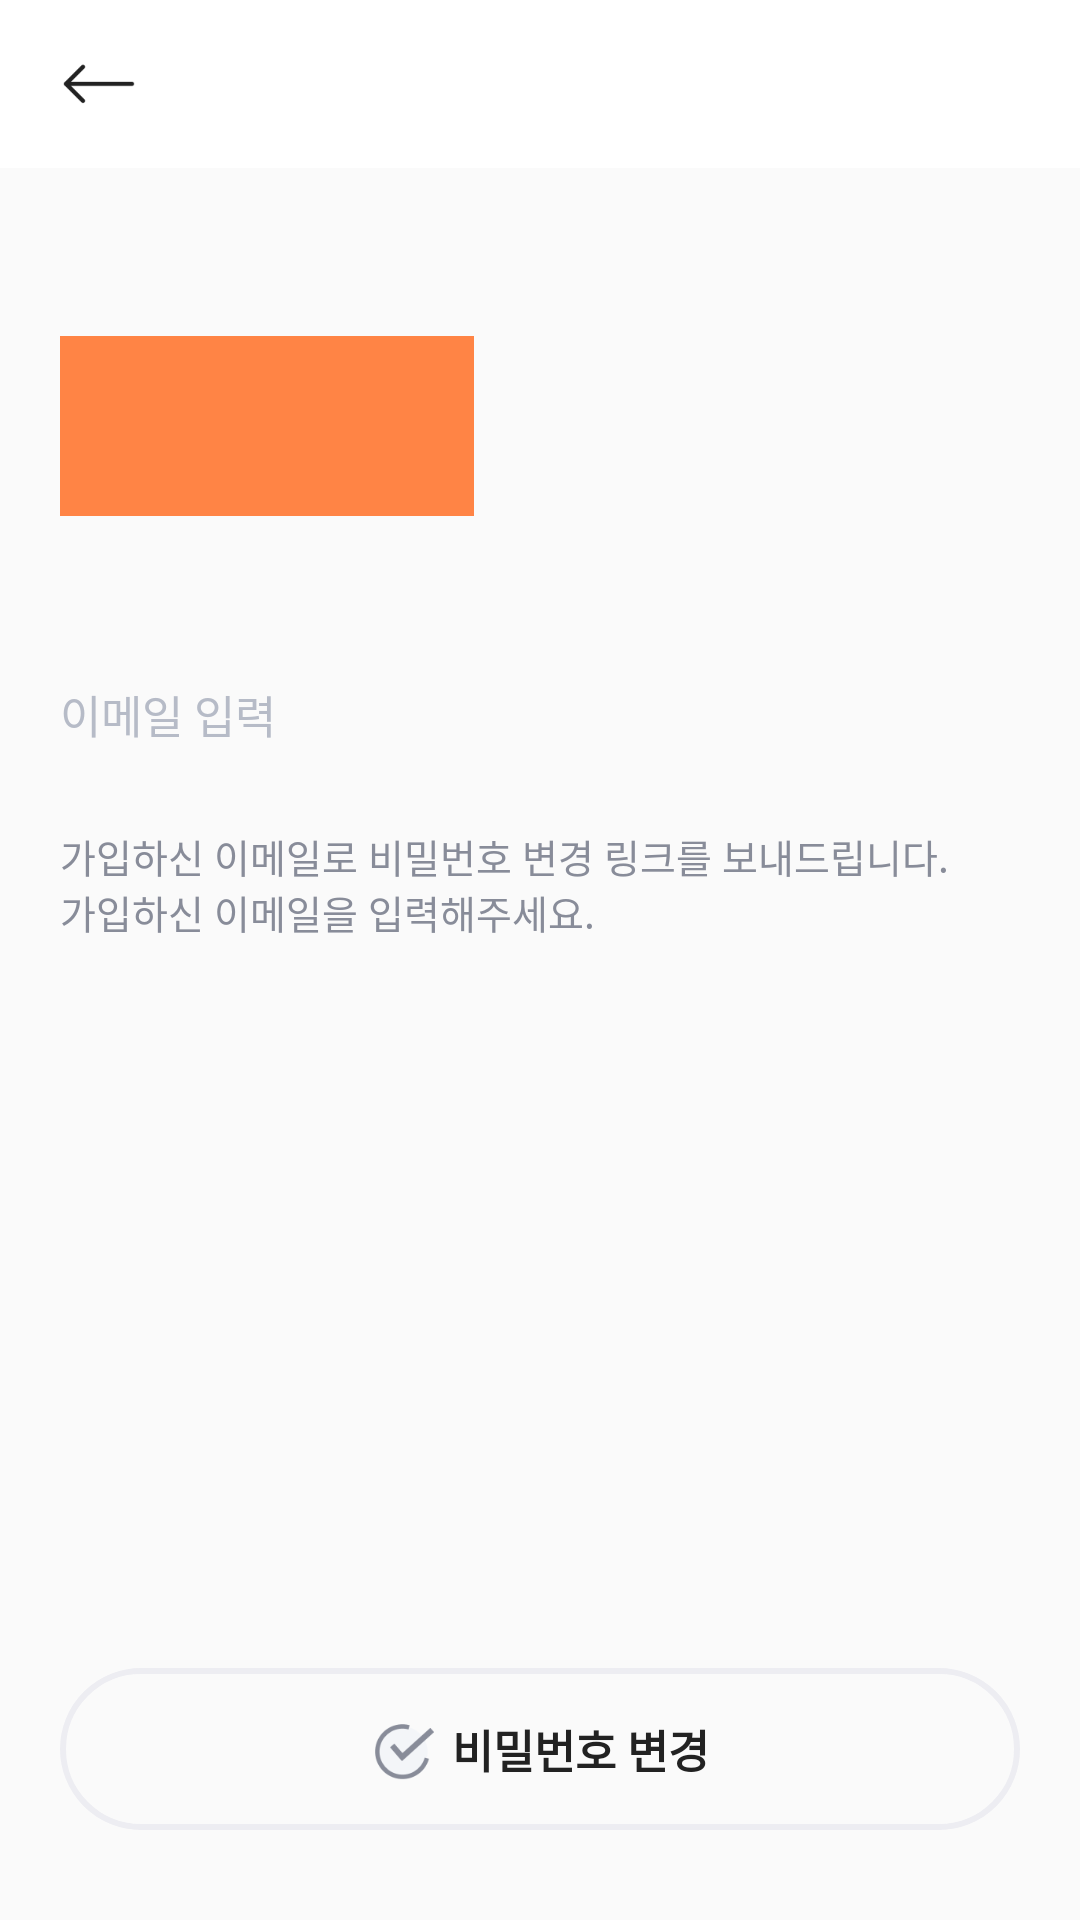

Named icons in this screenshot (1080px×1920px) and their bounding boxes, (x1, y1, x2, y2):
arrow left: (63, 64, 135, 103)
check off: (375, 1724, 434, 1779)
